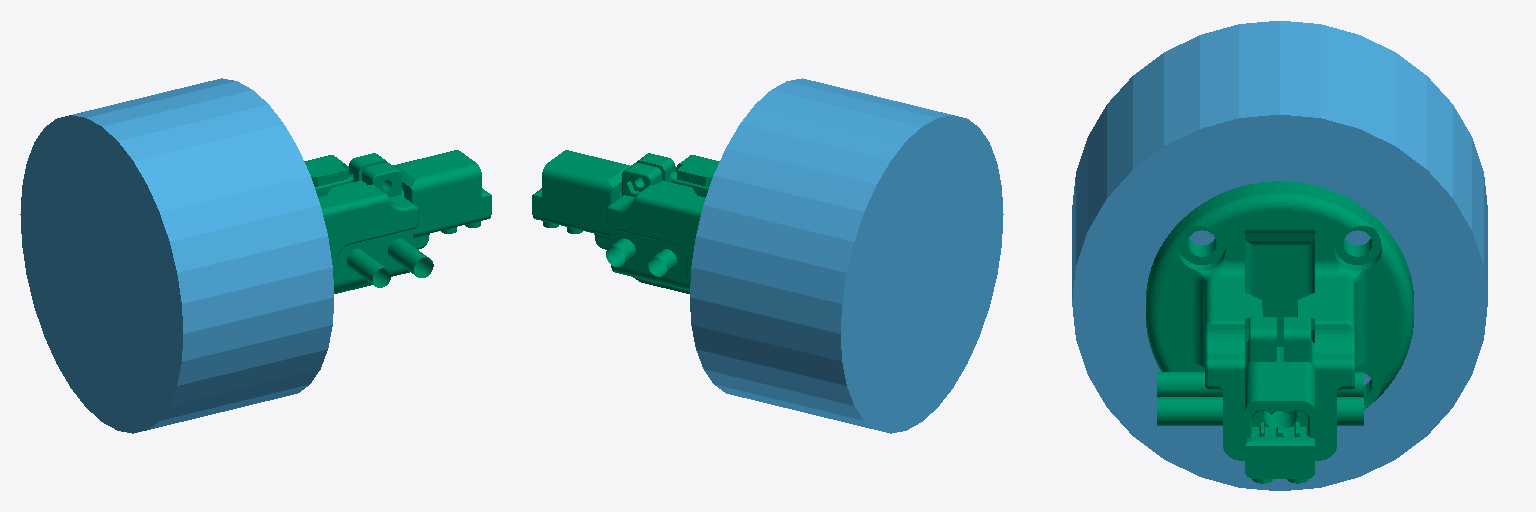
URDF robot description (Yaskawa_gp4):
<?xml version="1.0" encoding="utf-8"?>
<robot name="Yaskawa_gp4" xmlns:xacro="http://ros.org/wiki/xacro" path="../assets/gp4_lego/gp4.urdf">
	<link name="world"></link>
	<link name="base"></link>
	<link name="base_link">
		<inertial>
			<origin xyz="-0.073983 0.00022734 0.13031" rpy="0 0 0"></origin>
			<mass value="42.212"></mass>
			<inertia ixx="0.64296" ixy="0.0012624" ixz="-0.068804" iyy="1.2709" iyz="-0.0010754" izz="1.3497"></inertia>
		</inertial>
		<visual>
			<geometry>
				<mesh filename="gp4/base_link.stl"></mesh>
			</geometry>
		</visual>
		<collision>
			<geometry>
				<sphere radius="0.119671"></sphere>
			</geometry>
			<origin xyz="-0.07575601915097237 -0.0008230218069553376 0.07777994463970823" rpy="0 0 0"></origin>
		</collision>
		<collision>
			<geometry>
				<sphere radius="0.122461"></sphere>
			</geometry>
			<origin xyz="-0.009094019150972368 -0.0002290218069553375 0.07862394463970823" rpy="0 0 0"></origin>
		</collision>
		<collision>
			<geometry>
				<sphere radius="0.08014"></sphere>
			</geometry>
			<origin xyz="0.0027869808490276343 0.04260197819304466 0.04064294463970824" rpy="0 0 0"></origin>
		</collision>
		<collision>
			<geometry>
				<sphere radius="0.067458"></sphere>
			</geometry>
			<origin xyz="0.016629980849027635 -0.04618602180695534 0.03765994463970824" rpy="0 0 0"></origin>
		</collision>
	</link>
	<link name="link_1">
		<inertial>
			<origin xyz="0.058962 0.24363 -0.018725" rpy="0 0 0"></origin>
			<mass value="37.265"></mass>
			<inertia ixx="0.95018" ixy="-0.14402" ixz="-0.064915" iyy="1.0578" iyz="0.037699" izz="1.094"></inertia>
		</inertial>
		<visual>
			<geometry>
				<mesh filename="gp4/link_1.stl"></mesh>
			</geometry>
		</visual>
		<collision>
			<geometry>
				<sphere radius="0.103487"></sphere>
			</geometry>
			<origin xyz="-0.006680012403726577 -0.00405895157122612 -0.09518498797893524" rpy="0 0 0"></origin>
		</collision>
		<collision>
			<geometry>
				<sphere radius="0.096502"></sphere>
			</geometry>
			<origin xyz="-0.0022830124037265774 0.02624304842877388 -0.04820498797893524" rpy="0 0 0"></origin>
		</collision>
		<collision>
			<geometry>
				<sphere radius="0.100372"></sphere>
			</geometry>
			<origin xyz="-0.000928012403726578 -0.02788495157122612 -0.015095987978935244" rpy="0 0 0"></origin>
		</collision>
		<collision>
			<geometry>
				<sphere radius="0.090185"></sphere>
			</geometry>
			<origin xyz="-0.0018940124037265778 0.02974404842877388 -0.0007889879789352433" rpy="0 0 0"></origin>
		</collision>
	</link>
	<link name="link_2">
		<inertial>
			<origin xyz="3.5083E-05 0.39008 0.15036" rpy="0 0 0"></origin>
			<mass value="22.632"></mass>
			<inertia ixx="1.7745" ixy="-0.0054743" ixz="0.00063015" iyy="0.15511" iyz="-0.09224" izz="1.826"></inertia>
		</inertial>
		<visual>
			<geometry>
				<mesh filename="gp4/link_2.stl"></mesh>
			</geometry>
		</visual>
		<collision>
			<geometry>
				<sphere radius="0.09793"></sphere>
			</geometry>
			<origin xyz="-0.029720542814776534 -0.023862420774672922 0.10512294650002602" rpy="0 0 0"></origin>
		</collision>
		<collision>
			<geometry>
				<sphere radius="0.091307"></sphere>
			</geometry>
			<origin xyz="-0.03905554281477654 0.04388957922532708 0.129623946500026" rpy="0 0 0"></origin>
		</collision>
		<collision>
			<geometry>
				<sphere radius="0.061789"></sphere>
			</geometry>
			<origin xyz="-0.008863542814776536 0.05901957922532708 0.146398946500026" rpy="0 0 0"></origin>
		</collision>
		<collision>
			<geometry>
				<sphere radius="0.088217"></sphere>
			</geometry>
			<origin xyz="-0.03972254281477654 -0.03973442077467292 0.130174946500026" rpy="0 0 0"></origin>
		</collision>
		<collision>
			<geometry>
				<sphere radius="0.095999"></sphere>
			</geometry>
			<origin xyz="-0.020234542814776536 0.01789657922532708 0.05338594650002601" rpy="0 0 0"></origin>
		</collision>
		<collision>
			<geometry>
				<sphere radius="0.088623"></sphere>
			</geometry>
			<origin xyz="-0.0030135428147765354 0.02176557922532708 0.0008929465000260123" rpy="0 0 0"></origin>
		</collision>
		<collision>
			<geometry>
				<sphere radius="0.098809"></sphere>
			</geometry>
			<origin xyz="-0.018074542814776537 -0.0025994207746729203 0.05415094650002601" rpy="0 0 0"></origin>
		</collision>
		<collision>
			<geometry>
				<sphere radius="0.088389"></sphere>
			</geometry>
			<origin xyz="-0.003957542814776536 0.00091857922532708 -0.002976053499973999" rpy="0 0 0"></origin>
		</collision>
		<collision>
			<geometry>
				<sphere radius="0.079826"></sphere>
			</geometry>
			<origin xyz="-0.026058542814776535 -0.05560342077467292 0.162718946500026" rpy="0 0 0"></origin>
		</collision>
		<collision>
			<geometry>
				<sphere radius="0.062428"></sphere>
			</geometry>
			<origin xyz="-0.042745542814776535 -0.07226342077467293 0.205902946500026" rpy="0 0 0"></origin>
		</collision>
		<collision>
			<geometry>
				<sphere radius="0.055841"></sphere>
			</geometry>
			<origin xyz="0.026478457185223465 -0.07517142077467293 0.24198194650002602" rpy="0 0 0"></origin>
		</collision>
		<collision>
			<geometry>
				<sphere radius="0.056388"></sphere>
			</geometry>
			<origin xyz="-0.010712542814776536 -0.07403242077467292 0.274466946500026" rpy="0 0 0"></origin>
		</collision>
		<collision>
			<geometry>
				<sphere radius="0.076935"></sphere>
			</geometry>
			<origin xyz="-0.028701542814776534 0.05970057922532708 0.167062946500026" rpy="0 0 0"></origin>
		</collision>
		<collision>
			<geometry>
				<sphere radius="0.058835"></sphere>
			</geometry>
			<origin xyz="0.029858457185223466 0.07896457922532707 0.222125946500026" rpy="0 0 0"></origin>
		</collision>
		<collision>
			<geometry>
				<sphere radius="0.057534"></sphere>
			</geometry>
			<origin xyz="-0.039346542814776536 0.07962557922532709 0.244992946500026" rpy="0 0 0"></origin>
		</collision>
		<collision>
			<geometry>
				<sphere radius="0.05257"></sphere>
			</geometry>
			<origin xyz="0.0063094571852234625 0.08002757922532708 0.279773946500026" rpy="0 0 0"></origin>
		</collision>
	</link>
	<link name="link_3">
		<inertial>
			<origin xyz="0.086423 0.14427 -0.035793" rpy="0 0 0"></origin>
			<mass value="28.467"></mass>
			<inertia ixx="0.65771" ixy="-0.13627" ixz="-0.026219" iyy="0.52683" iyz="0.051956" izz="0.69722"></inertia>
		</inertial>
		<visual>
			<geometry>
				<mesh filename="gp4/link_3.stl"></mesh>
			</geometry>
		</visual>
		<collision>
			<geometry>
				<sphere radius="0.078334"></sphere>
			</geometry>
			<origin xyz="-0.019412976109266282 0.00740209885430336 -0.004424969627380371" rpy="0 0 0"></origin>
		</collision>
		<collision>
			<geometry>
				<sphere radius="0.082448"></sphere>
			</geometry>
			<origin xyz="0.01119302389073372 0.00649809885430336 -0.000790969627380371" rpy="0 0 0"></origin>
		</collision>
		<collision>
			<geometry>
				<sphere radius="0.072948"></sphere>
			</geometry>
			<origin xyz="0.05006602389073372 0.0017370988543033601 0.006009030372619629" rpy="0 0 0"></origin>
		</collision>
		<collision>
			<geometry>
				<sphere radius="0.052807"></sphere>
			</geometry>
			<origin xyz="-0.03822397610926628 -0.014118901145696638 -0.02360596962738037" rpy="0 0 0"></origin>
		</collision>
	</link>
	<link name="link_4">
		<inertial>
			<origin xyz="0.37337 0.00033491 0.012656" rpy="0 0 0"></origin>
			<mass value="7.629"></mass>
			<inertia ixx="0.018151" ixy="-0.00033527" ixz="-0.031589" iyy="0.48072" iyz="3.3917E-05" izz="0.47647"></inertia>
		</inertial>
		<visual>
			<geometry>
				<mesh filename="gp4/link_4.stl"></mesh>
			</geometry>
		</visual>
		<collision>
			<geometry>
				<sphere radius="0.070971"></sphere>
			</geometry>
			<origin xyz="-0.14405002021551133 0.0012611188665628433 0.00023096638298034664" rpy="0 0 0"></origin>
		</collision>
		<collision>
			<geometry>
				<sphere radius="0.073196"></sphere>
			</geometry>
			<origin xyz="-0.09581802021551132 -9.088113343715663e-05 0.0001579663829803467" rpy="0 0 0"></origin>
		</collision>
		<collision>
			<geometry>
				<sphere radius="0.069293"></sphere>
			</geometry>
			<origin xyz="-0.05042802021551132 0.0003211188665628433 -0.00012603361701965326" rpy="0 0 0"></origin>
		</collision>
		<collision>
			<geometry>
				<sphere radius="0.065365"></sphere>
			</geometry>
			<origin xyz="-0.0019150202155113205 -0.0009398811334371568 -0.0003610336170196532" rpy="0 0 0"></origin>
		</collision>
	</link>
	<link name="link_5">
		<inertial>
			<origin xyz="0.062818 3.3289E-05 0.0048991" rpy="0 0 0"></origin>
			<mass value="2.5794"></mass>
			<inertia ixx="0.015161" ixy="-2.4835E-06" ixz="0.0016647" iyy="0.021382" iyz="-2.248E-06" izz="0.013473"></inertia>
		</inertial>
		<visual>
			<geometry>
				<mesh filename="gp4/link_5.stl"></mesh>
			</geometry>
		</visual>
		<collision>
			<geometry>
				<sphere radius="0.065188"></sphere>
			</geometry>
			<origin xyz="0.014196006263256074 -0.0016248214304447174 -9.637603759765764e-07" rpy="0 0 0"></origin>
		</collision>
	</link>
	<link name="link_6">
		<inertial>
			<origin xyz="0.00015982 -0.00063018 -0.008266" rpy="0 0 0"></origin>
			<mass value="0.10811"></mass>
			<inertia ixx="9.0129E-05" ixy="-1.0891E-08" ixz="9.1598E-09" iyy="9.2026E-05" iyz="-2.749E-07" izz="0.00017818"></inertia>
		</inertial>
		<visual>
			<geometry>
				<mesh filename="gp4/link_6.stl"></mesh>
			</geometry>
		</visual>
		<collision>
			<geometry>
				<sphere radius="0.022972"></sphere>
			</geometry>
			<origin xyz="0.06725001335144043 -5.284726309776306e-05 -0.012774910593032837" rpy="0 0 0"></origin>
		</collision>
		<collision>
			<geometry>
				<sphere radius="0.023049"></sphere>
			</geometry>
			<origin xyz="0.06725001335144043 -0.010521847263097763 0.0068190894069671635" rpy="0 0 0"></origin>
		</collision>
		<collision>
			<geometry>
				<sphere radius="0.022052"></sphere>
			</geometry>
			<origin xyz="0.06726901335144043 0.011999152736902236 0.006232089406967163" rpy="0 0 0"></origin>
		</collision>
	</link>
	<link name="fts">
		<collision>
			<geometry>
				<sphere radius="0.038064"></sphere>
			</geometry>
			<origin xyz="0.011877 -0.023867 0.000253" rpy="0 0 0"></origin>
		</collision>
		<collision>
			<geometry>
				<sphere radius="0.040119"></sphere>
			</geometry>
			<origin xyz="0.024662 -0.001624 -1e-06" rpy="0 0 0"></origin>
		</collision>
		<collision>
			<geometry>
				<sphere radius="0.039834"></sphere>
			</geometry>
			<origin xyz="-0.017862 0.017823 -0.000249" rpy="0 0 0"></origin>
		</collision>
		<collision>
			<geometry>
				<sphere radius="0.038222"></sphere>
			</geometry>
			<origin xyz="-0.024336 -0.004839 0.0" rpy="0 0 0"></origin>
		</collision>
		<collision>
			<geometry>
				<sphere radius="0.037769"></sphere>
			</geometry>
			<origin xyz="-0.0129 -0.024135 -0.000938" rpy="0 0 0"></origin>
		</collision>
		<collision>
			<geometry>
				<sphere radius="0.041411"></sphere>
			</geometry>
			<origin xyz="0.011091 0.023734 -1e-06" rpy="0 0 0"></origin>
		</collision>
		<visual>
			<origin xyz="0 0 0" rpy="0 0 0"></origin>
			<geometry>
				<cylinder length="0.0505" radius="0.0472"></cylinder>
			</geometry>
		</visual>
		<inertial>
			<mass value="1e-5"></mass>
			<origin xyz="0 0 0" rpy="0 0 0"></origin>
			<inertia ixx="1e-6" ixy="0" ixz="0" iyy="1e-6" iyz="0" izz="1e-6"></inertia>
		</inertial>
	</link>
	<link name="link_tool">
		<inertial>
			<origin xyz="0 0 0" rpy="0 0 0"></origin>
			<mass value="0.10811"></mass>
			<inertia ixx="9.0129E-05" ixy="-1.0891E-08" ixz="9.1598E-09" iyy="9.2026E-05" iyz="-2.749E-07" izz="0.00017818"></inertia>
		</inertial>
		<visual>
			<origin xyz="0 0 0" rpy="0 0 0"></origin>
			<geometry>
				<mesh filename="eoat/tool_with_cam_gen35.stl"></mesh>
			</geometry>
		</visual>
		<collision>
			<geometry>
				<sphere radius="0.007566"></sphere>
			</geometry>
			<origin xyz="-0.00812526059785581 0.020722512432185928 0.041226901189082864" rpy="0 0 0"></origin>
		</collision>
		<collision>
			<geometry>
				<sphere radius="0.015878"></sphere>
			</geometry>
			<origin xyz="-0.0014272605978558112 -0.000456487567814073 0.06422290118908286" rpy="0 0 0"></origin>
		</collision>
		<collision>
			<geometry>
				<sphere radius="0.019951"></sphere>
			</geometry>
			<origin xyz="-0.0025242605978558113 0.00015551243218592706 0.045856901189082866" rpy="0 0 0"></origin>
		</collision>
		<collision>
			<geometry>
				<sphere radius="0.023908"></sphere>
			</geometry>
			<origin xyz="-0.004176260597855811 1.8512432185927062e-05 0.03335690118908286" rpy="0 0 0"></origin>
		</collision>
		<collision>
			<geometry>
				<sphere radius="0.02149"></sphere>
			</geometry>
			<origin xyz="-0.0032202605978558113 0.006482512432185927 0.02346890118908286" rpy="0 0 0"></origin>
		</collision>
		<collision>
			<geometry>
				<sphere radius="0.019783"></sphere>
			</geometry>
			<origin xyz="0.009670739402144189 0.015605512432185928 0.007847901189082861" rpy="0 0 0"></origin>
		</collision>
		<collision>
			<geometry>
				<sphere radius="0.021634"></sphere>
			</geometry>
			<origin xyz="-0.007474260597855811 0.015229512432185927 0.008738901189082864" rpy="0 0 0"></origin>
		</collision>
		<collision>
			<geometry>
				<sphere radius="0.012498"></sphere>
			</geometry>
			<origin xyz="0.02037173940214419 0.007351512432185927 0.004500901189082862" rpy="0 0 0"></origin>
		</collision>
		<collision>
			<geometry>
				<sphere radius="0.017566"></sphere>
			</geometry>
			<origin xyz="0.012428739402144189 -0.013928487567814073 0.007362901189082862" rpy="0 0 0"></origin>
		</collision>
		<collision>
			<geometry>
				<sphere radius="0.019796"></sphere>
			</geometry>
			<origin xyz="0.000674739402144189 -0.006403487567814073 0.020150901189082863" rpy="0 0 0"></origin>
		</collision>
		<collision>
			<geometry>
				<sphere radius="0.01449"></sphere>
			</geometry>
			<origin xyz="0.00021573940214418894 -0.023956487567814072 0.004920901189082866" rpy="0 0 0"></origin>
		</collision>
		<collision>
			<geometry>
				<sphere radius="0.013901"></sphere>
			</geometry>
			<origin xyz="0.02613373940214419 -0.004951487567814073 0.003919901189082864" rpy="0 0 0"></origin>
		</collision>
		<collision>
			<geometry>
				<sphere radius="0.027207"></sphere>
			</geometry>
			<origin xyz="-0.00999526059785581 0.001222512432185927 0.014604901189082864" rpy="0 0 0"></origin>
		</collision>
		<collision>
			<geometry>
				<sphere radius="0.017205"></sphere>
			</geometry>
			<origin xyz="-0.01505326059785581 0.009620512432185927 0.0078119011890828635" rpy="0 0 0"></origin>
		</collision>
		<collision>
			<geometry>
				<sphere radius="0.017734"></sphere>
			</geometry>
			<origin xyz="-0.016864260597855812 -0.011968487567814073 0.006466901189082861" rpy="0 0 0"></origin>
		</collision>
		<collision>
			<geometry>
				<sphere radius="0.018122"></sphere>
			</geometry>
			<origin xyz="-0.005438260597855811 -0.015421487567814075 0.007465901189082861" rpy="0 0 0"></origin>
		</collision>
	</link>
	<link name="flange"></link>
	<joint name="world_fixed" type="fixed">
		<parent link="world"></parent>
		<child link="base"></child>
	</joint>
	<joint name="base_link-base" type="fixed">
		<origin xyz="0 0 0.0" rpy="0 0 0"></origin>
		<parent link="base"></parent>
		<child link="base_link"></child>
	</joint>
	<joint name="joint_1" type="revolute">
		<parent link="base_link"></parent>
		<child link="link_1"></child>
		<origin xyz="0 0 0.330" rpy="0 0 0"></origin>
		<axis xyz="0 0 1"></axis>
		<limit effort="200" lower="-2.9670597283903604" upper="2.9670597283903604" velocity="2"></limit>
	</joint>
	<joint name="joint_2" type="revolute">
		<parent link="link_1"></parent>
		<child link="link_2"></child>
		<origin xyz="0 0 0" rpy="0 0 0"></origin>
		<axis xyz="0 1 0"></axis>
		<limit effort="200" lower="-1.9198621771937625" upper="2.2689280275926285" velocity="2"></limit>
	</joint>
	<joint name="joint_3" type="revolute">
		<parent link="link_2"></parent>
		<child link="link_3"></child>
		<origin xyz="0 0 0.260" rpy="0 0 0"></origin>
		<axis xyz="0 -1 0"></axis>
		<limit effort="200" lower="-0.99" upper="3.30" velocity="2"></limit>
	</joint>
	<joint name="joint_4" type="revolute">
		<parent link="link_3"></parent>
		<child link="link_4"></child>
		<origin xyz="0.290 0 0.015" rpy="0 0 0"></origin>
		<axis xyz="-1 0 0"></axis>
		<limit effort="200" lower="-3.490658503988659" upper="3.490658503988659" velocity="2"></limit>
	</joint>
	<joint name="joint_5" type="revolute">
		<parent link="link_4"></parent>
		<child link="link_5"></child>
		<origin xyz="0 0 0" rpy="0 0 0"></origin>
		<axis xyz="0 -1 0"></axis>
		<limit effort="200" lower="-1.98968" upper="1.98968" velocity="2"></limit>
	</joint>
	<joint name="joint_6" type="revolute">
		<parent link="link_5"></parent>
		<child link="link_6"></child>
		<origin xyz="0 0 0" rpy="0 0 0"></origin>
		<axis xyz="-1 0 0"></axis>
		<limit effort="200" lower="-7.941248096574199" upper="7.941248096574199" velocity="2"></limit>
	</joint>
	<joint name="joint_6_t-flange" type="fixed">
		<origin xyz="0.072 0 0" rpy="0 0 0"></origin>
		<parent link="link_6"></parent>
		<child link="flange"></child>
	</joint>
	<joint name="link_6_fts" type="fixed">
		<origin rpy="0 1.5707963267948966 0" xyz="0.02525 0 0"></origin>
		<parent link="flange"></parent>
		<child link="fts"></child>
	</joint>
	<joint name="fts_tool" type="fixed">
		<origin rpy="0 0 3.141592653589793" xyz="0 0 0.02525"></origin>
		<parent link="fts"></parent>
		<child link="link_tool"></child>
	</joint>
</robot>

--- Facts derived from the render (not from the file) ---
Views: 3 orthographic renders of the robot side by side, from view 1: azimuth 30°, elevation 25°; view 2: azimuth 150°, elevation 25°; view 3: azimuth 270°, elevation 25°.
Model Yaskawa_gp4 with 12 links and 11 joints (6 revolute, 5 fixed), rooted at world, posed all joints at 0.
Visible links, largest first — view 1: fts, link_tool; view 2: fts, link_tool; view 3: fts, link_tool.
Boxes of the visible links, left/top/right/bottom form: fts: left=20, top=78, right=333, bottom=433; link_tool: left=304, top=150, right=491, bottom=293; fts: left=690, top=78, right=1003, bottom=433; link_tool: left=532, top=150, right=719, bottom=293; fts: left=1072, top=21, right=1487, bottom=490; link_tool: left=1146, top=181, right=1413, bottom=483.
Bounding box of the posed robot: 0.1257 × 0.0944 × 0.0944 m (x, y, z).
1 mesh visuals loaded from 8 distinct referenced files (1 binary STL); not drawn: 7 (reference not matched to a file when rendering).